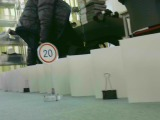speed_20: (35, 41, 60, 65)
